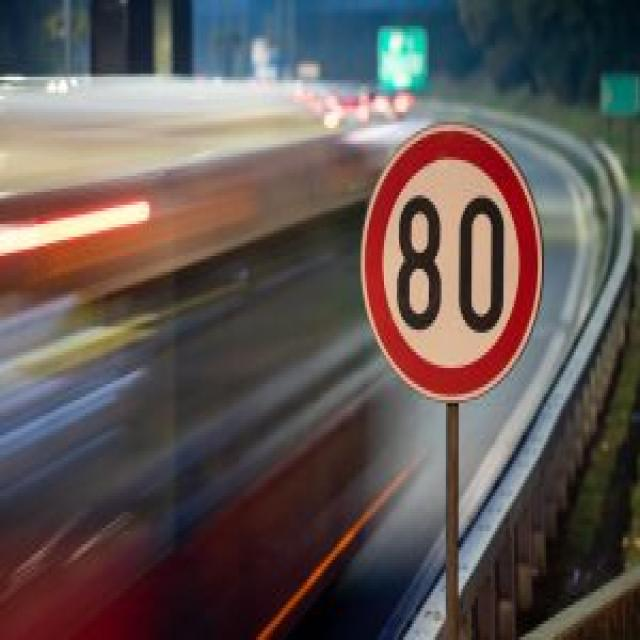Speed Limit -80-: (396, 192, 508, 336)
